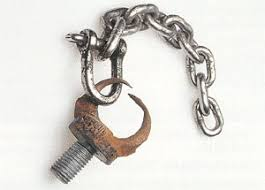rust: (57, 77, 157, 167)
